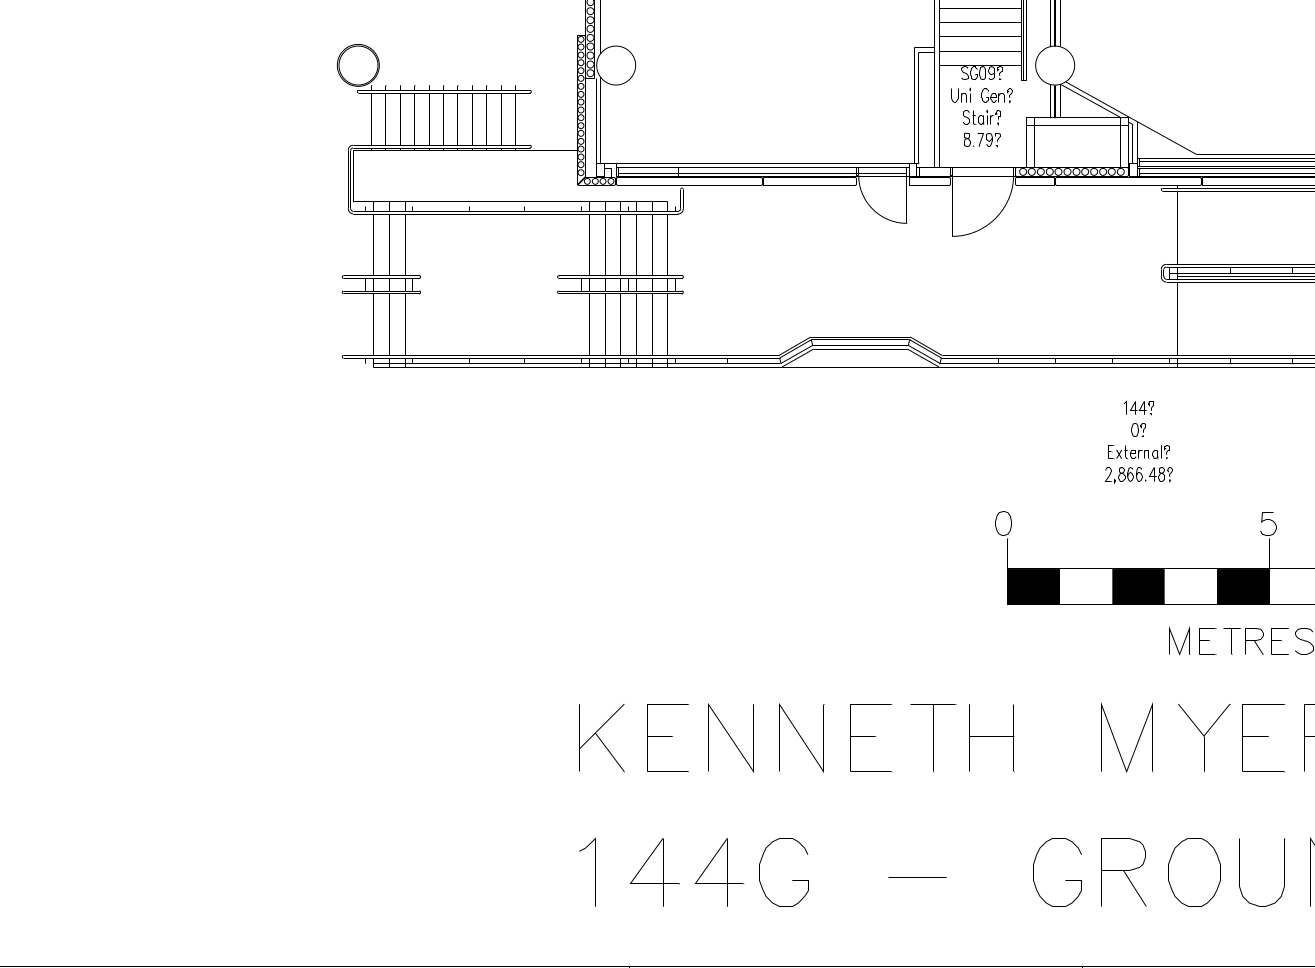door: (948, 166, 1019, 243), (854, 172, 914, 235)
